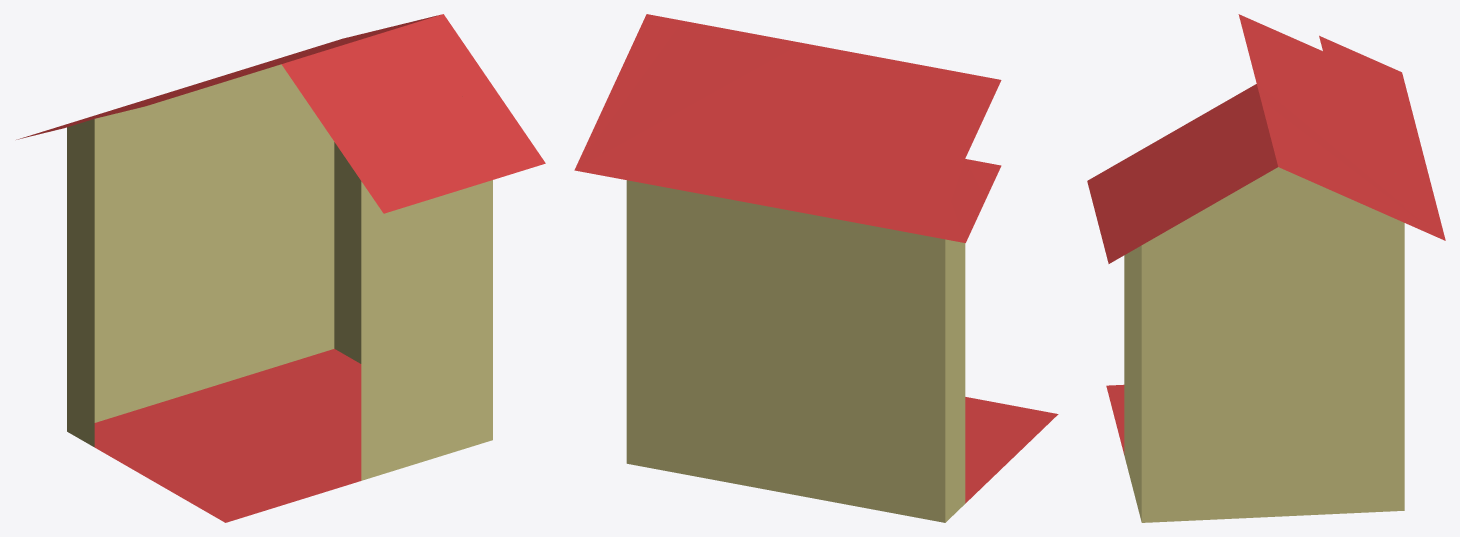
The picture shows the model from 3 angles, left to right: view 1: azimuth 30°, elevation 25°; view 2: azimuth 150°, elevation 25°; view 3: azimuth 270°, elevation 25°; orthographic projection. The views are drawn at different scales.
Bounding box in the file's own units: 8.75 × 7.19 × 8.09.
